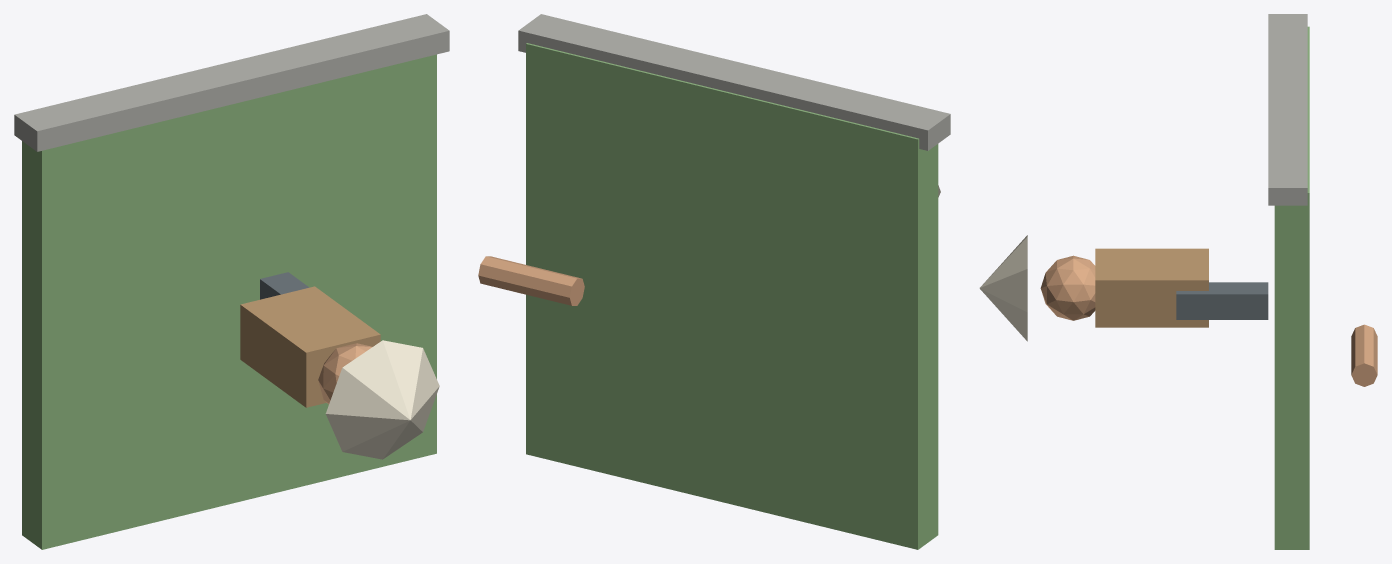
Rendered from 01_NongDan.glb.
3 renders of one model, left to right at view 1: azimuth 30°, elevation 25°; view 2: azimuth 150°, elevation 25°; view 3: azimuth 270°, elevation 25°, orthographic. The views are drawn at different scales.
Parts seen in each view (by area): view 1: base, edge, body, hat, head, leg; view 2: base, edge, arm; view 3: base, body, edge, leg, head, hat, arm.
Part boxes in pixels (left/top/right/bottom): base: left=22, top=54, right=436, bottom=549; edge: left=14, top=14, right=449, bottom=151; body: left=240, top=286, right=380, bottom=407; hat: left=325, top=340, right=439, bottom=459; head: left=318, top=343, right=372, bottom=404; leg: left=260, top=272, right=308, bottom=299; base: left=526, top=43, right=938, bottom=549; edge: left=518, top=14, right=950, bottom=150; arm: left=478, top=256, right=584, bottom=305; base: left=1274, top=26, right=1309, bottom=549; body: left=1095, top=248, right=1208, bottom=327; edge: left=1268, top=14, right=1307, bottom=205; leg: left=1176, top=282, right=1268, bottom=319; head: left=1040, top=255, right=1095, bottom=320; hat: left=979, top=235, right=1027, bottom=341; arm: left=1351, top=324, right=1377, bottom=386.
Bounding box in the file's own units: 1.88 × 1.84 × 1.82.
